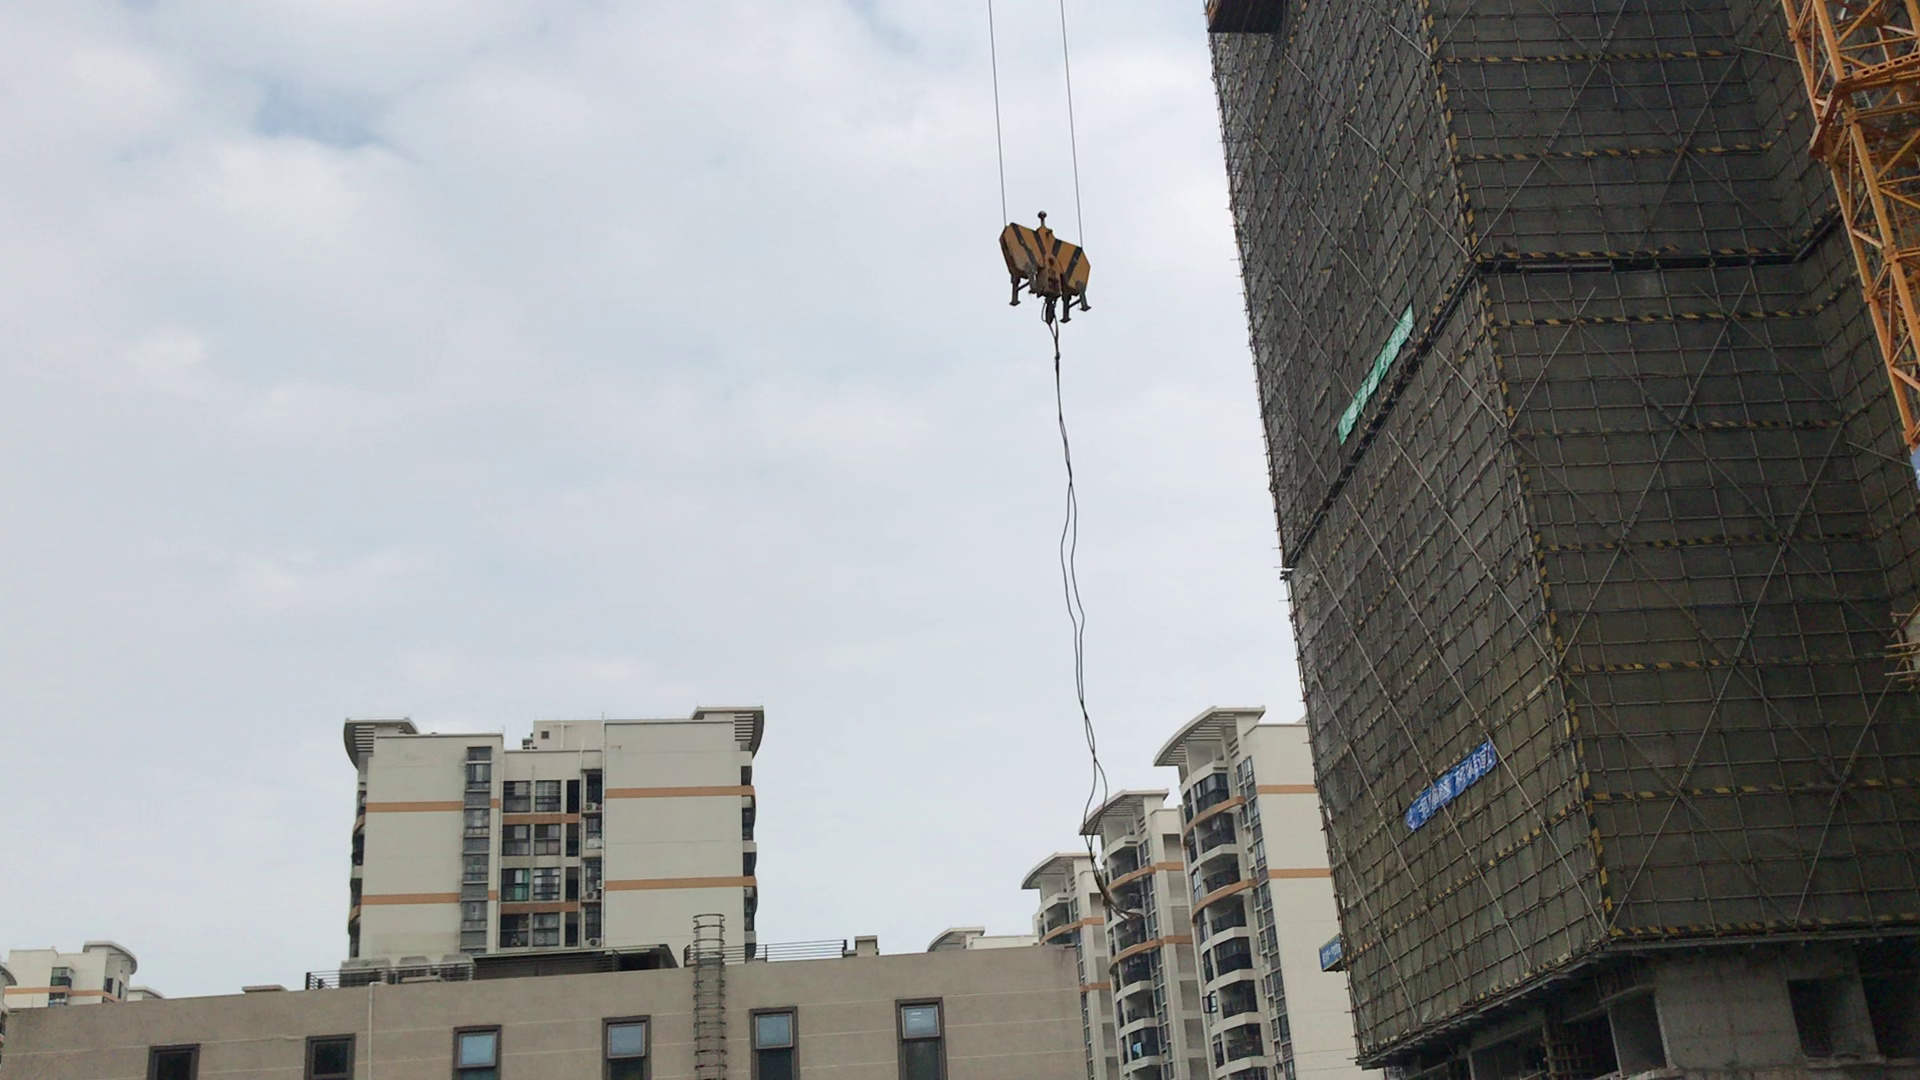hook: (1001, 211, 1093, 328)
slogan: (1331, 303, 1415, 443), (1404, 742, 1501, 829)
